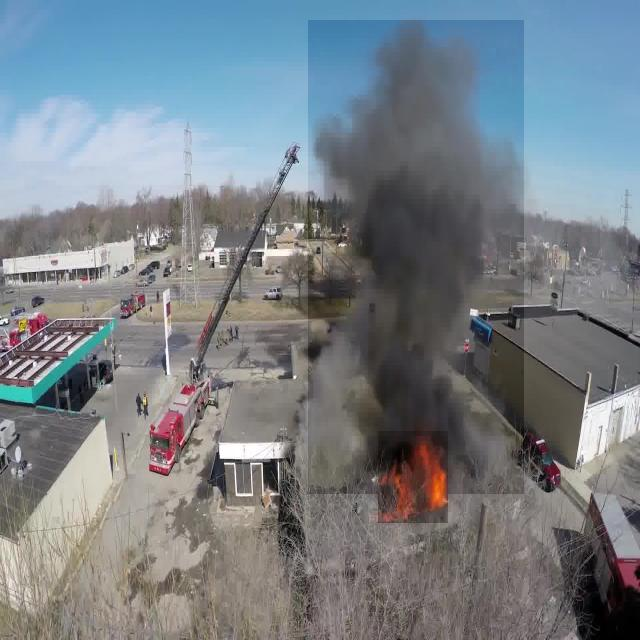Fire: (378, 431, 448, 523)
Smoke: (308, 20, 524, 494)
